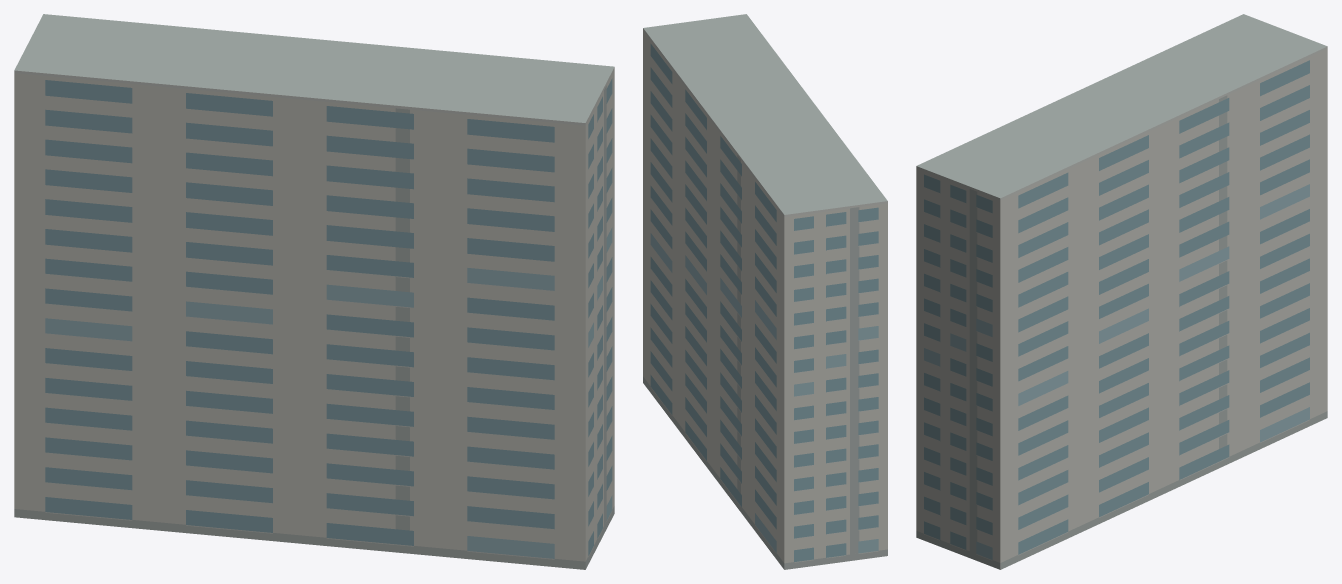
Rendered from residential-bcd18fe4-0fbe-4723-b003-0d1dc7d73bf5.glb.
3 renders of one model, left to right at view 1: azimuth 30°, elevation 25°; view 2: azimuth 150°, elevation 25°; view 3: azimuth 270°, elevation 25°, orthographic. The views are drawn at different scales.
Visible parts, largest first — view 1: residential-bcd18fe4-0fbe-4723-b003-0d1dc7d73bf5.tmp; view 2: residential-bcd18fe4-0fbe-4723-b003-0d1dc7d73bf5.tmp; view 3: residential-bcd18fe4-0fbe-4723-b003-0d1dc7d73bf5.tmp.
Boxes of the visible parts, bbox=[...] form: residential-bcd18fe4-0fbe-4723-b003-0d1dc7d73bf5.tmp: bbox=[14, 14, 614, 569]; residential-bcd18fe4-0fbe-4723-b003-0d1dc7d73bf5.tmp: bbox=[643, 14, 887, 569]; residential-bcd18fe4-0fbe-4723-b003-0d1dc7d73bf5.tmp: bbox=[916, 14, 1327, 569].
Size of the model in its own units: 42.57 by 40 by 40.15.
